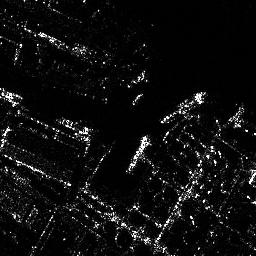ship: (159, 91, 210, 124), (127, 133, 152, 173)
